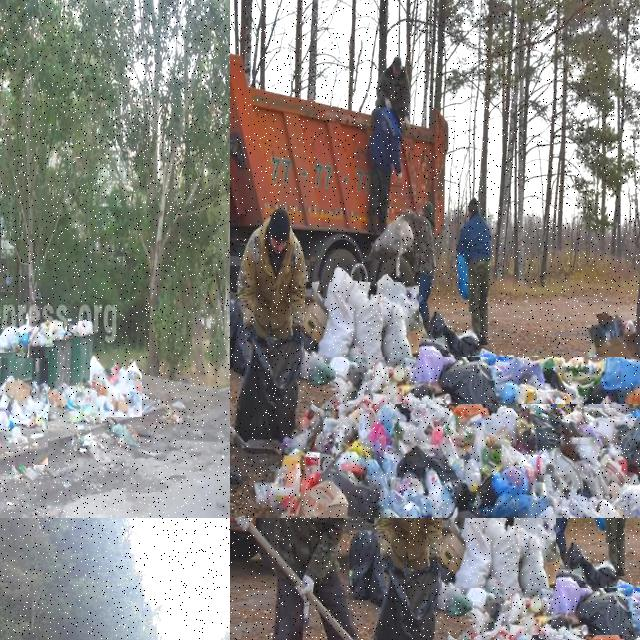lixeira: (248, 408, 639, 517), (308, 358, 639, 407), (306, 282, 421, 380), (443, 518, 559, 612), (445, 589, 639, 638), (231, 338, 302, 446), (368, 568, 440, 639), (90, 353, 144, 418), (349, 530, 389, 602), (585, 314, 639, 357), (424, 313, 481, 352), (561, 544, 618, 583), (49, 382, 94, 426), (372, 215, 413, 262), (230, 299, 253, 371), (30, 317, 66, 349), (0, 319, 30, 355), (68, 322, 100, 334)
